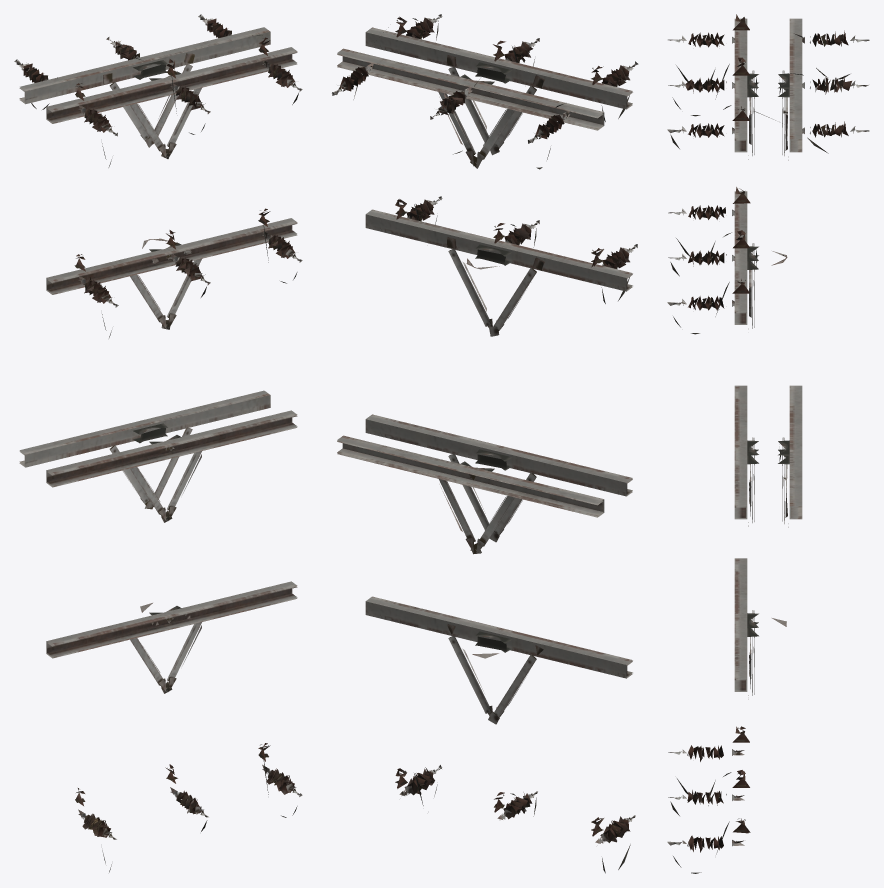
Rendered from ph_power_pole_06.fbx.
3 renders of one model, left to right at view 1: azimuth 30°, elevation 25°; view 2: azimuth 150°, elevation 25°; view 3: azimuth 270°, elevation 25°, orthographic. The views are drawn at different scales.
Parts seen in each view (by area): view 1: ph_power_pole_06_LOD0; view 2: ph_power_pole_06_LOD0; view 3: ph_power_pole_06_LOD0.
Part boxes in pixels (left/top/right/bottom): ph_power_pole_06_LOD0: left=14, top=14, right=302, bottom=872; ph_power_pole_06_LOD0: left=331, top=14, right=638, bottom=873; ph_power_pole_06_LOD0: left=667, top=14, right=869, bottom=873.
Size of what is drawn, in the model's own units: 1.2 by 3.63 by 0.8523.
